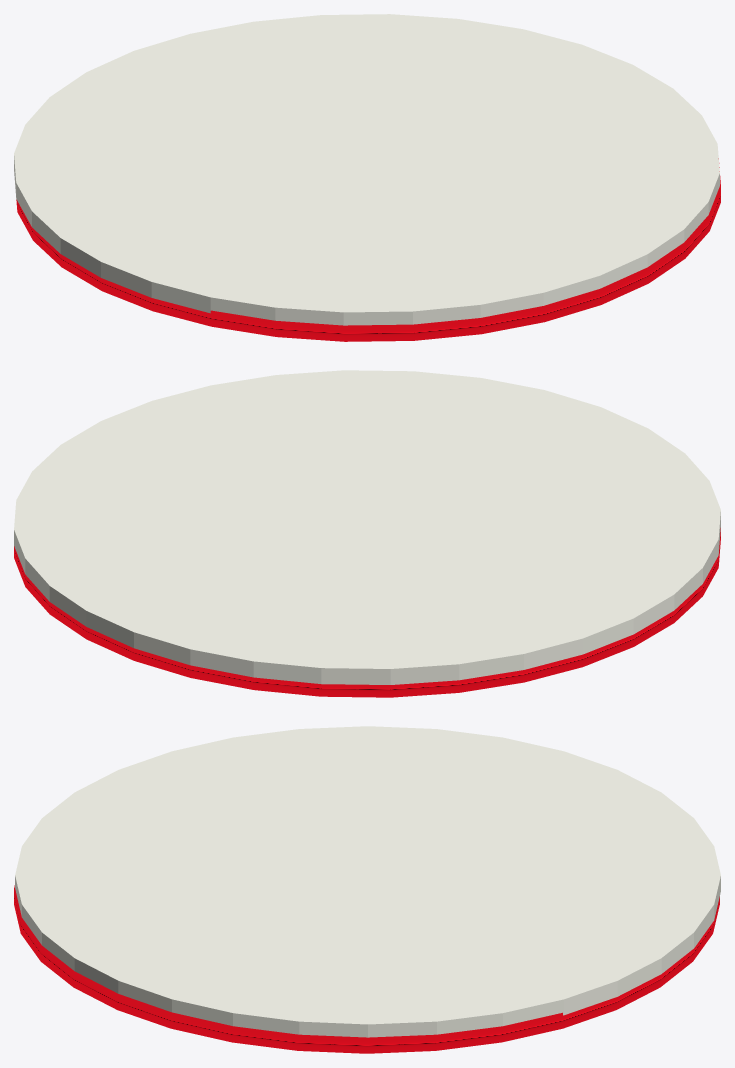
File: コイントス（紅白）.fbx
The picture shows the model from 3 angles, top to bottom: view 1: azimuth 30°, elevation 25°; view 2: azimuth 150°, elevation 25°; view 3: azimuth 270°, elevation 25°; orthographic projection.
Parts seen in each view (by area): view 1: 円柱.001, 円柱; view 2: 円柱.001, 円柱; view 3: 円柱.001, 円柱.
Part boxes in pixels (x1,y1,x2,y2): 円柱.001: (14, 14, 719, 325); 円柱: (16, 158, 720, 341); 円柱.001: (14, 370, 720, 684); 円柱: (14, 528, 720, 697); 円柱.001: (15, 726, 720, 1037); 円柱: (14, 885, 719, 1053).
Size of the model in its own units: 200 by 9.09 by 200.
